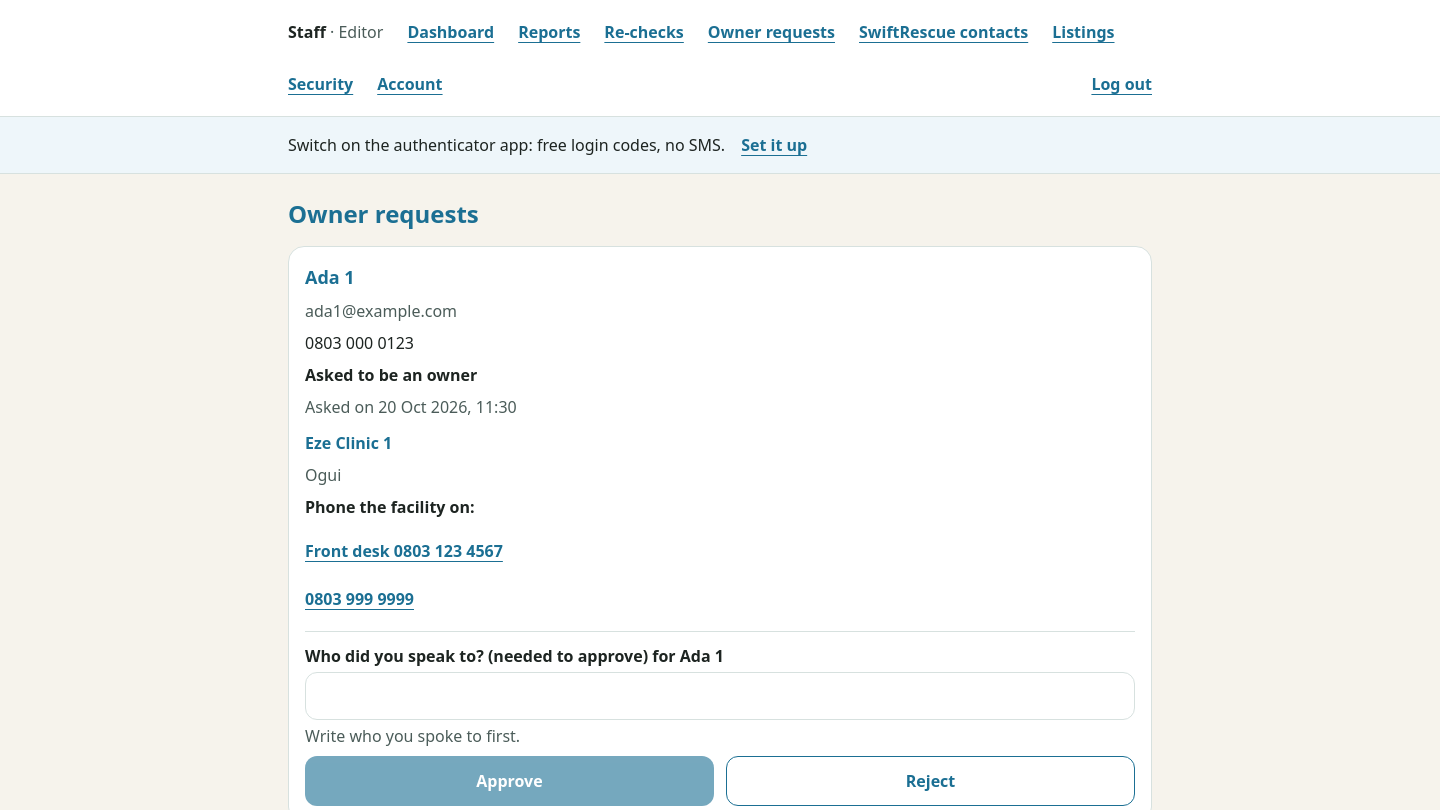
approving › asks first, and Cancel sends nothing
The width and height of the screenshot is (1440, 810).
Type "Mrs Eze" into the field labelled "Who did you speak to? (needed to approve) for Ada 1" at (720, 696), box 305,672 -> 1135,720
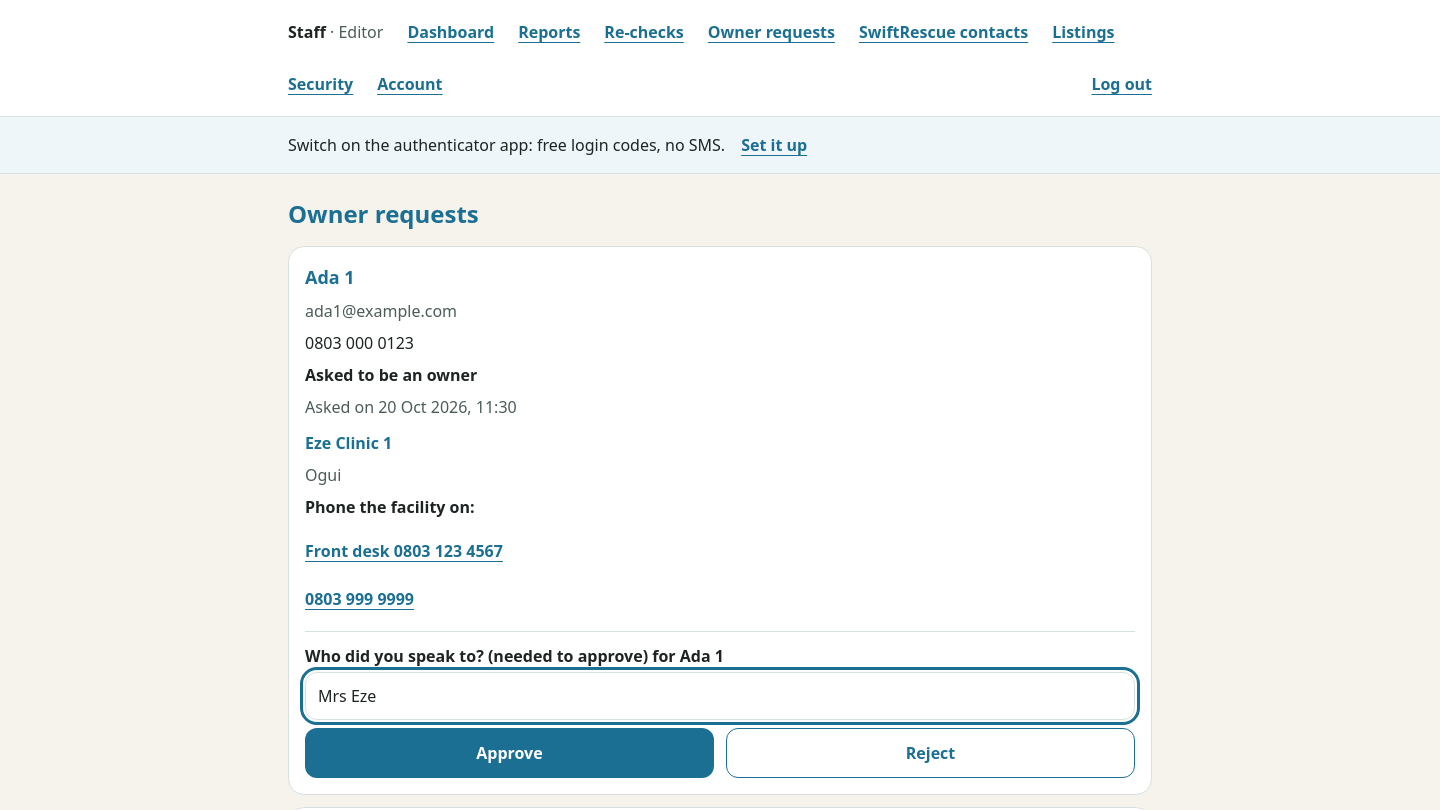
Click the button with aria-label "Approve Ada 1" at (510, 753), box 305,728 -> 714,778
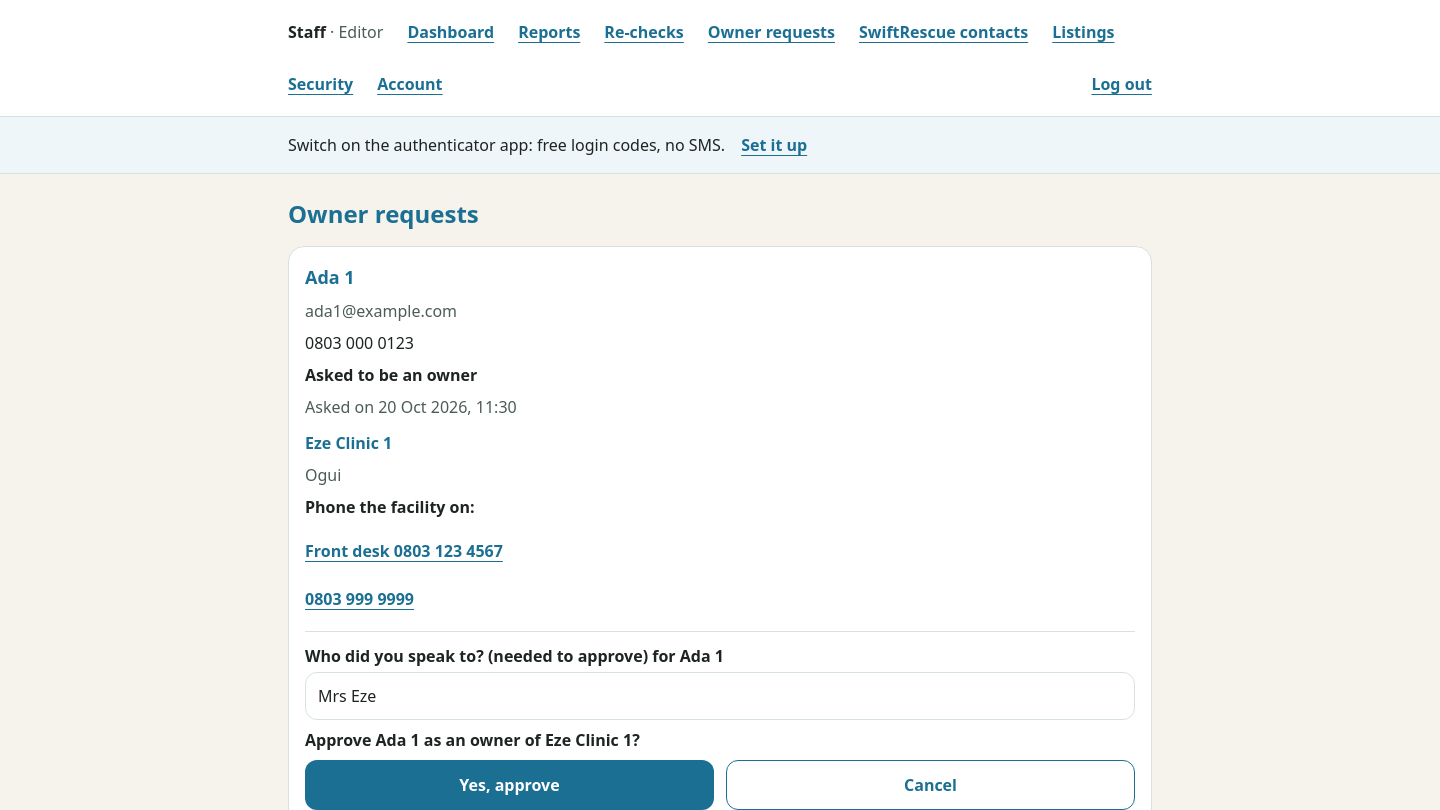
Result: the text "Approve Ada 1 as an owner of Eze Clinic 1?" is shown at 305,729 -> 640,751
Click the button "Cancel" at (930, 785), box 726,760 -> 1135,809
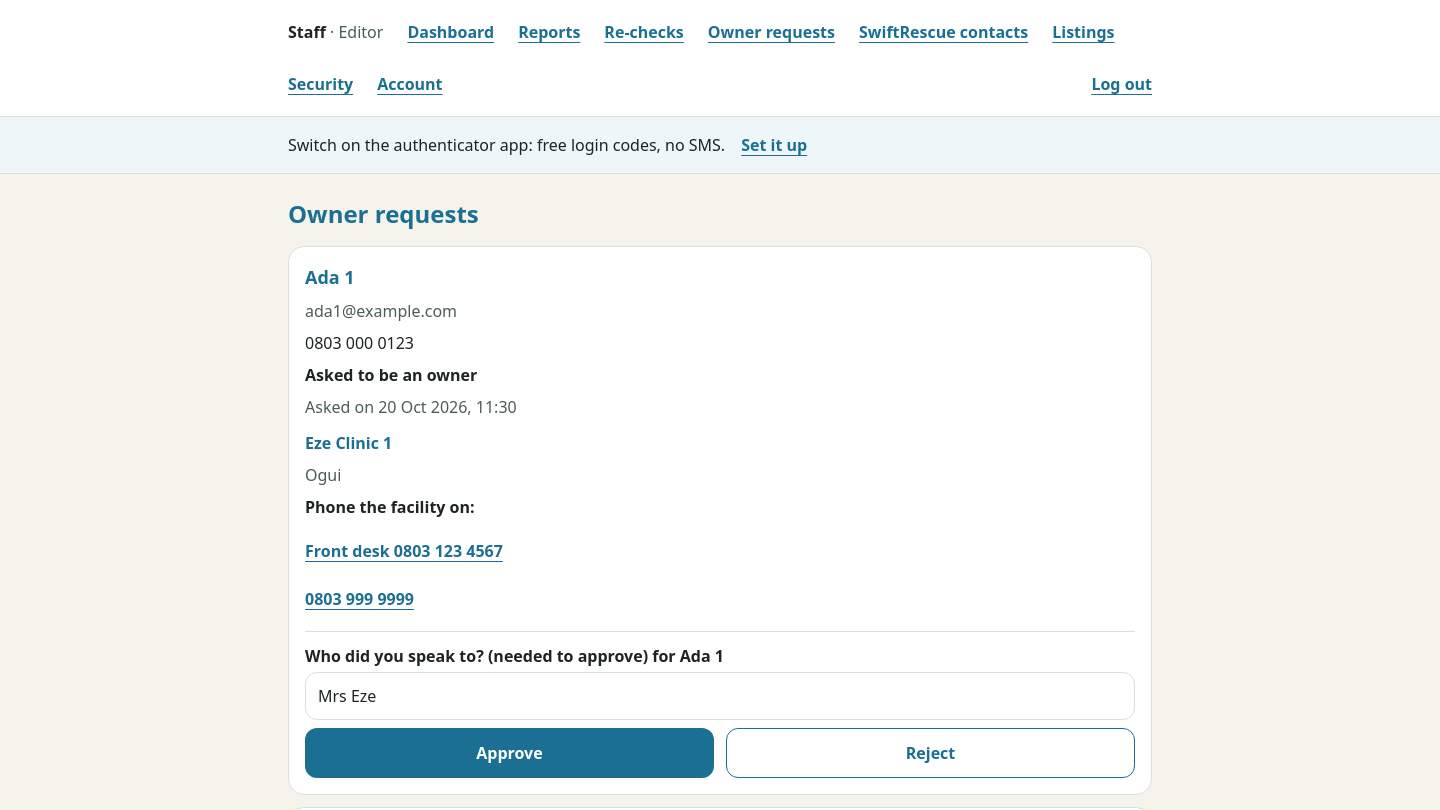
Result: the text "Approve Ada 1 as an owner of Eze Clinic 1?" is gone
